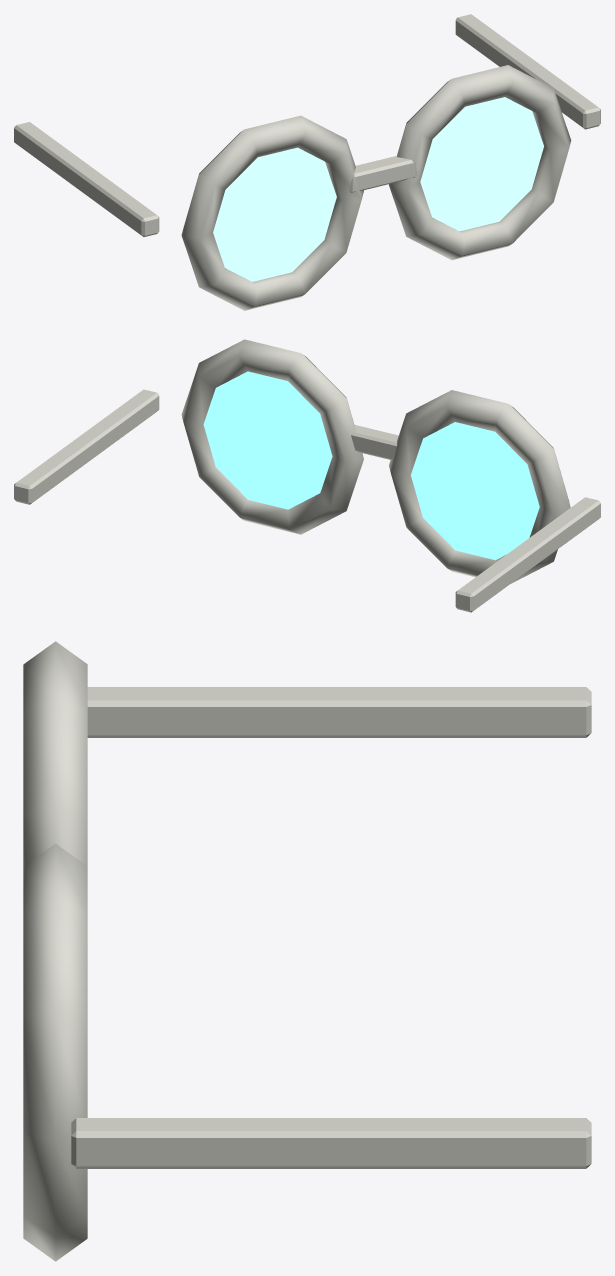
The model's file is npc_glasses_white.glb.
The picture shows the model from 3 angles, top to bottom: view 1: azimuth 30°, elevation 25°; view 2: azimuth 150°, elevation 25°; view 3: azimuth 270°, elevation 25°; orthographic projection. The views are drawn at different scales.
Visible parts, largest first — view 1: part.npc_glasses_white; view 2: part.npc_glasses_white; view 3: part.npc_glasses_white.
Part boxes in pixels (x1,y1,x2,y2): part.npc_glasses_white: (14, 14, 600, 310); part.npc_glasses_white: (14, 339, 600, 612); part.npc_glasses_white: (23, 641, 591, 1261).
Bounding box in the file's own units: 0.204 × 0.077 × 0.1092.
